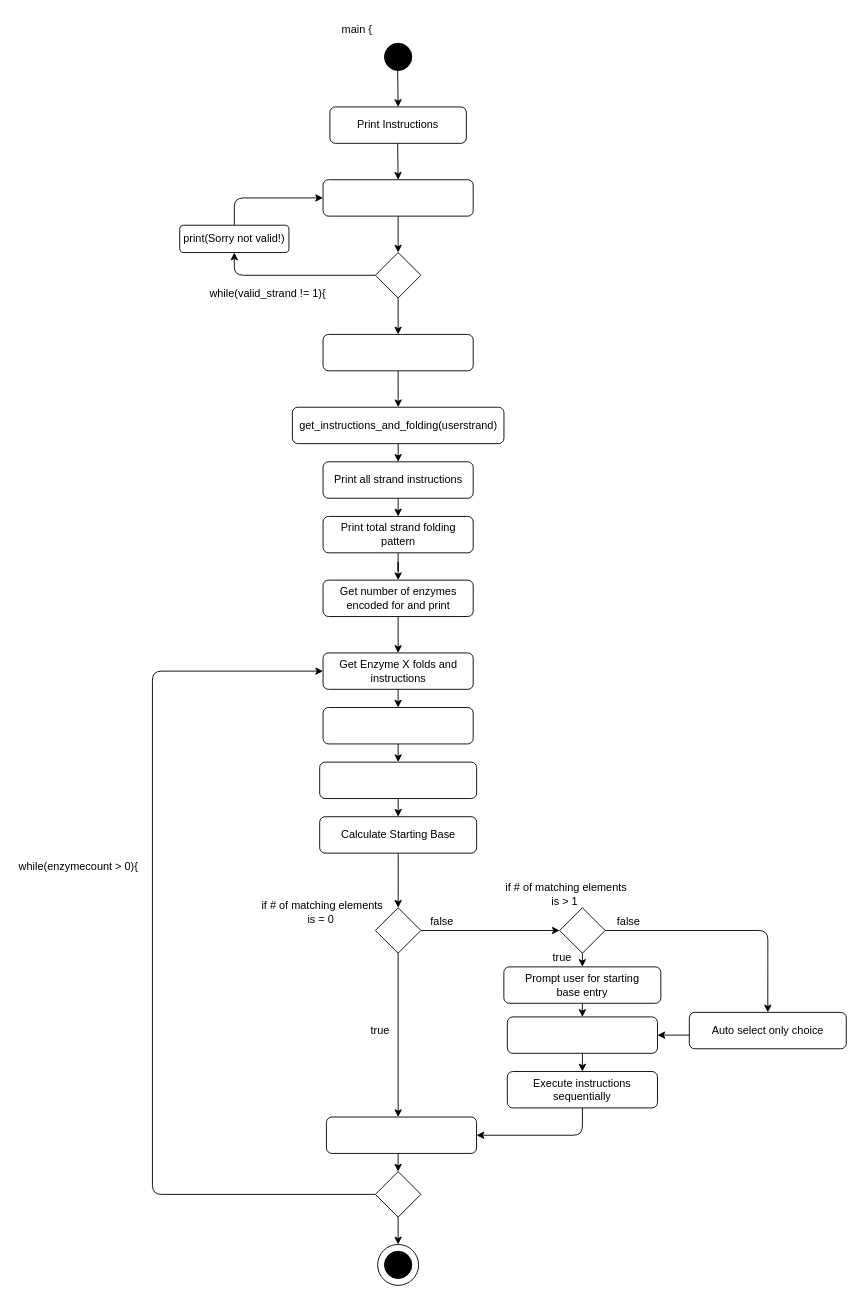
This 862x1301 diagram has some shape labels left out. Here are the shapes that lost their labels. From the top down, the centre of each, then its label:
At point (397, 197): "Prompt user for strand entry".
At point (397, 352): "Print User Strand".
At point (397, 725): "Print Enzyme X instructions".
At point (398, 780): "Print Enzyme X folding pattern".
At point (581, 1034): "Generate arrow under selected element".
At point (401, 1134): "decrement enzymecount".
